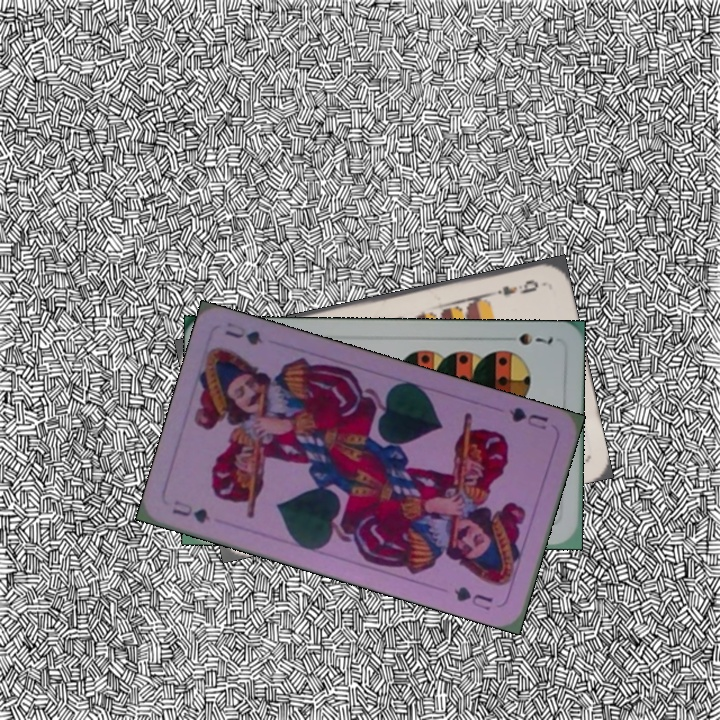E9: (486, 275, 541, 298)
GU: (505, 403, 551, 433), (168, 496, 213, 526)
S7: (515, 329, 556, 348)
